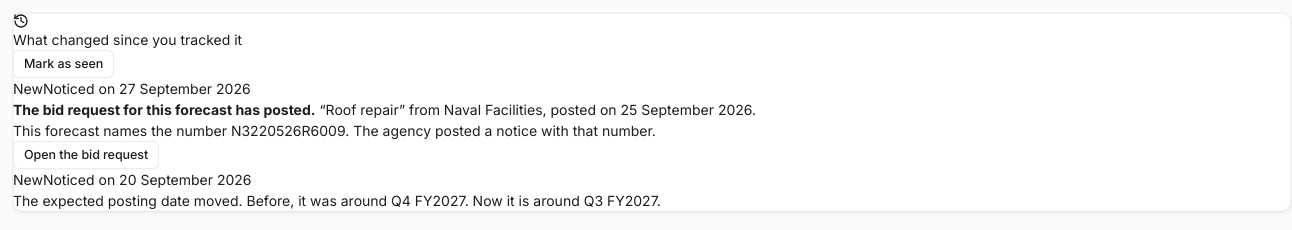
Test: ForecastWatchChanges › marks unseen changes New, and Mark as seen keeps them listed as Seen
Expected: the text "New" is shown 2 times, [13,80,43,97]; [13,171,43,188]
Step 1. Click the button "Mark as seen" → (64, 64), box [13,50,114,78]
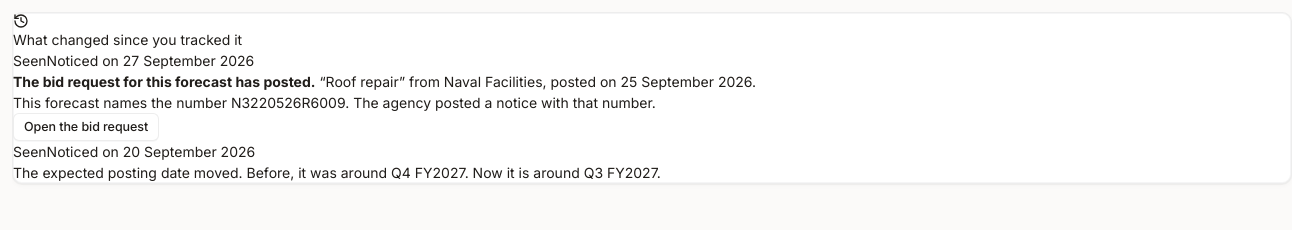
Expected: the text "Seen" is shown 2 times, [13,52,47,69]; [13,143,47,160]
Now the text "New" is gone
Now the button "Mark as seen" is gone
